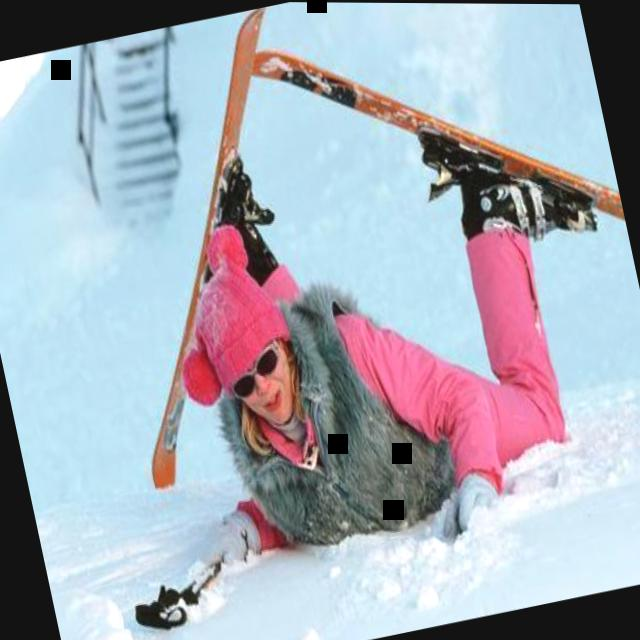Fall-Detected: (71, 52, 640, 625)
